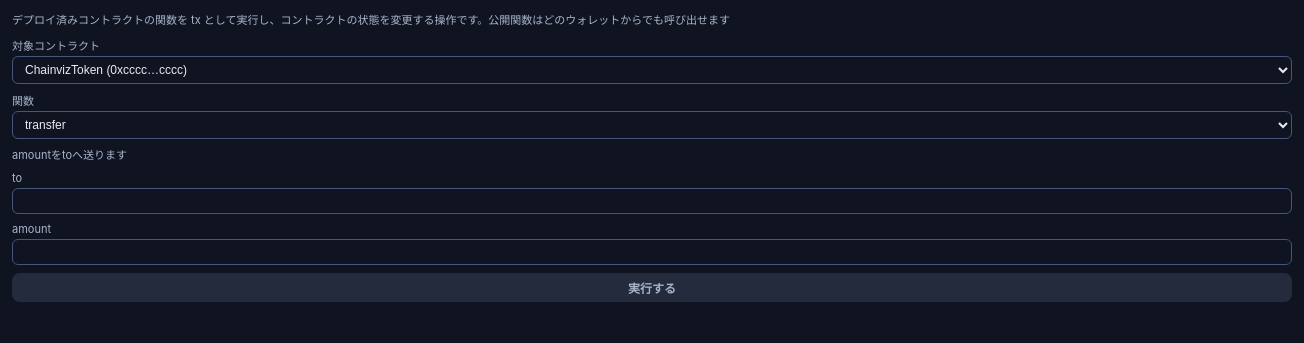
Test: CallForm (ARCHITECTURE.md §6.5-3) › shows an error only on the invalid uint arg while the address arg stays valid
In the field with test id "operation-call-arg-to": (652, 201) left=12, top=188, right=1292, bottom=214, type "0xbbbbbbbbbbbbbbbbbbbbbbbbbbbbbbbbbbbbbbbb"
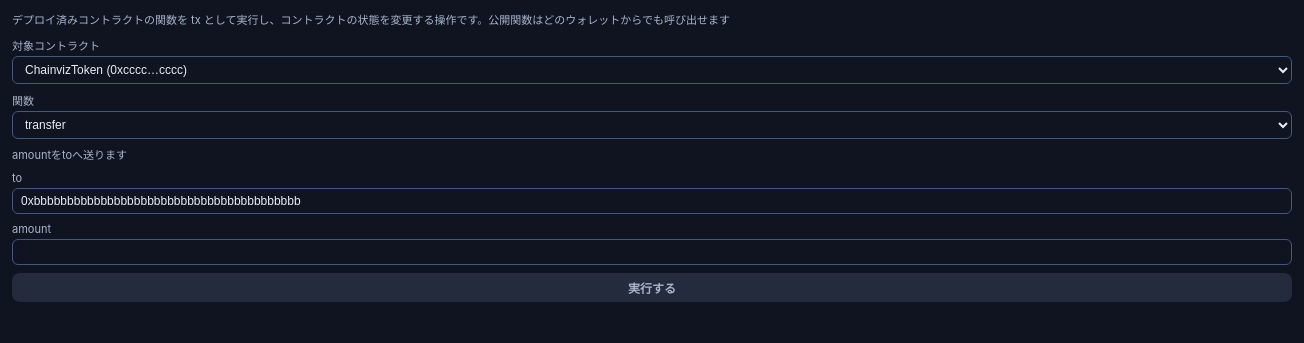
In the field with test id "operation-call-arg-amount": (652, 252) left=12, top=239, right=1292, bottom=265, type "1.5"
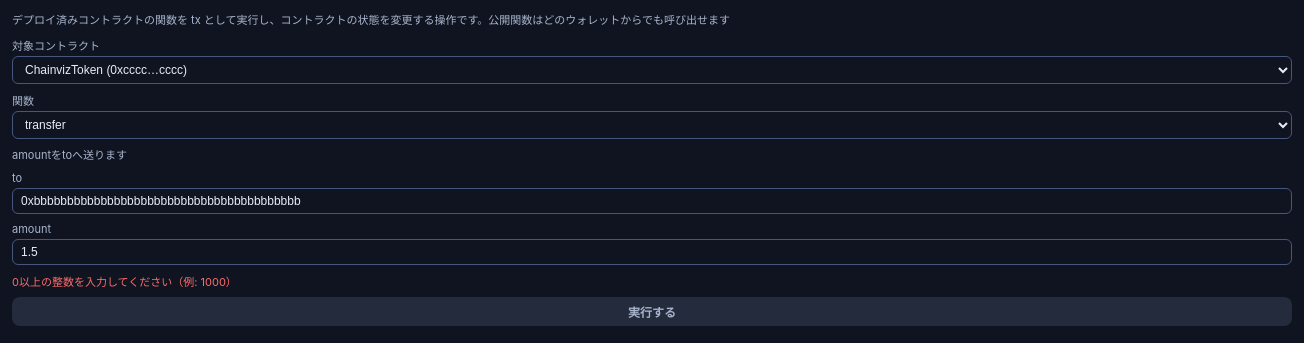
Check: the text "0以上の整数を入力してください（例: 1000）" is shown, box left=12, top=275, right=237, bottom=289
